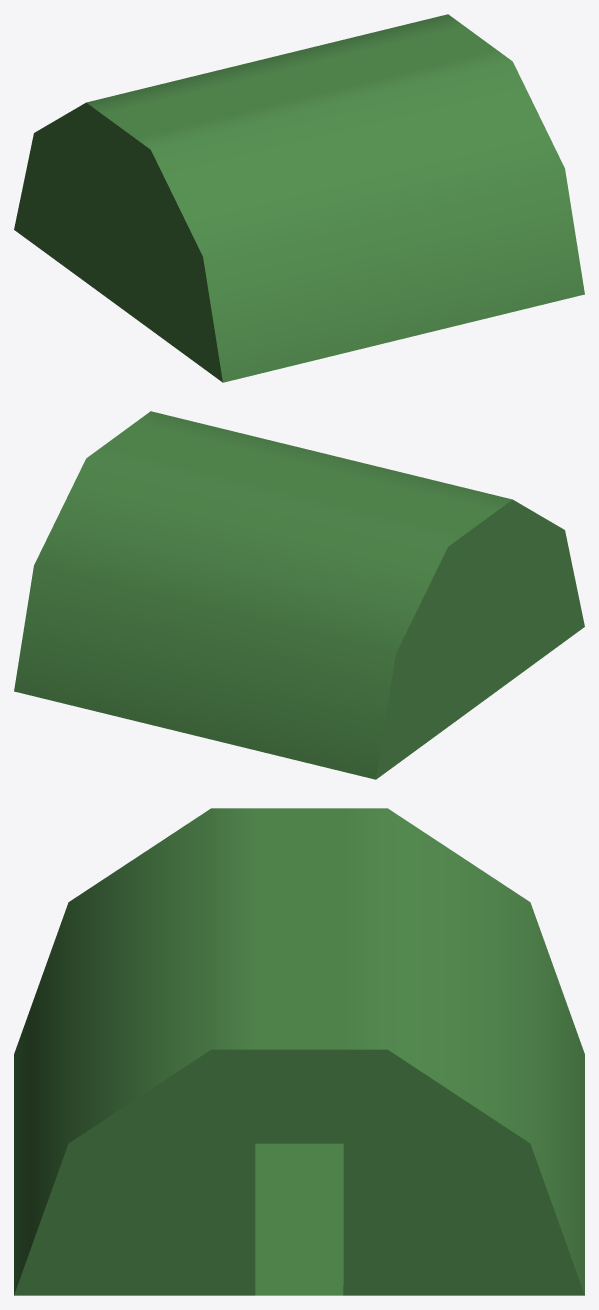
File: MillitaryBase.fbx
3 renders of one model, top to bottom at view 1: azimuth 30°, elevation 25°; view 2: azimuth 150°, elevation 25°; view 3: azimuth 270°, elevation 25°, orthographic. The views are drawn at different scales.
Visible parts, largest first — view 1: Millitary_Base; view 2: Millitary_Base; view 3: Millitary_Base.
Part boxes in pixels (bbox=[...]): Millitary_Base: bbox=[14, 14, 584, 382]; Millitary_Base: bbox=[14, 411, 584, 779]; Millitary_Base: bbox=[14, 808, 584, 1295].
Bounding box in the file's own units: 200 × 95.11 × 200.
